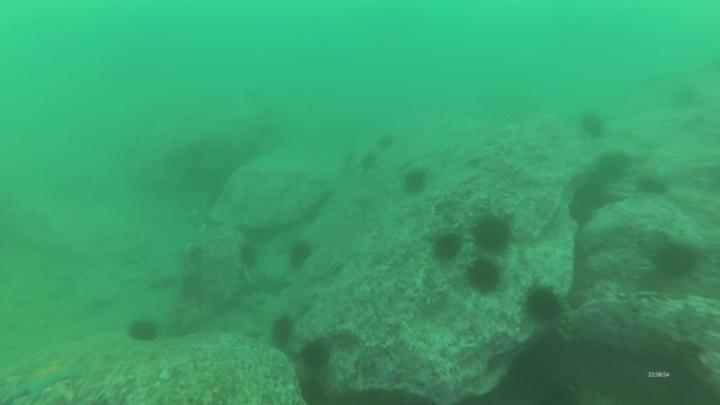echinus: (474, 220, 512, 252), (662, 246, 699, 278), (526, 289, 563, 320), (471, 262, 498, 294), (599, 149, 625, 181), (273, 316, 294, 347), (433, 235, 460, 258), (129, 322, 158, 343), (303, 344, 323, 370), (292, 241, 312, 266), (402, 171, 423, 194), (586, 115, 605, 134), (242, 244, 258, 265), (380, 135, 394, 149), (361, 156, 374, 170)
starfish: (16, 364, 76, 399)
